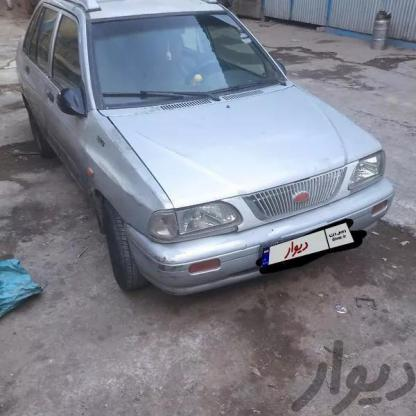Car: (0, 0, 407, 297)
